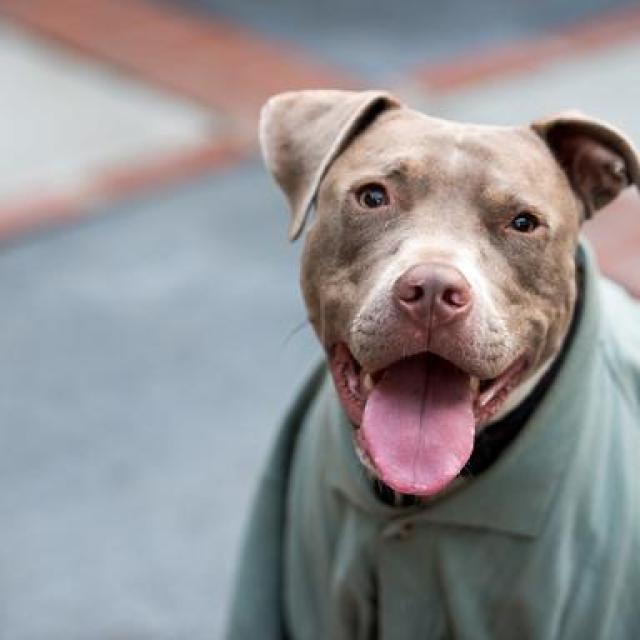adult_dog: (225, 85, 640, 640)
